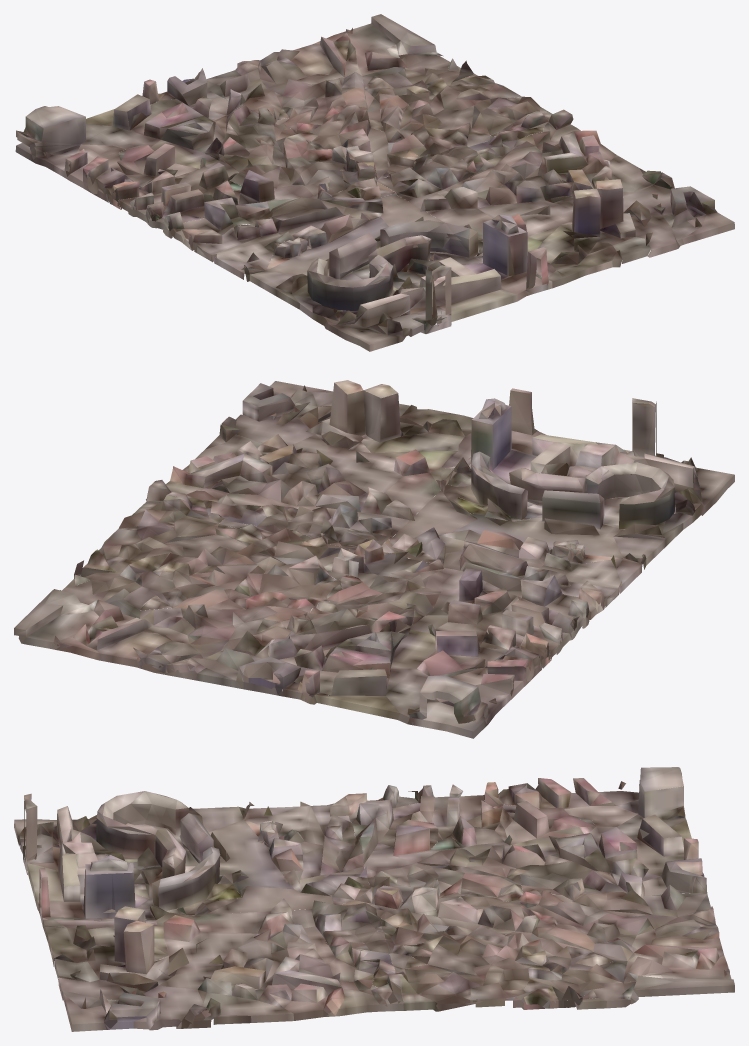
3 renders of one model, top to bottom at view 1: azimuth 30°, elevation 25°; view 2: azimuth 150°, elevation 25°; view 3: azimuth 270°, elevation 25°, orthographic. The views are drawn at different scales.
Visible parts, largest first — view 1: Mesh_0; view 2: Mesh_0; view 3: Mesh_0.
Boxes of the visible parts, box(x1,y1,x2,y2) form: Mesh_0: box(15, 14, 734, 351); Mesh_0: box(14, 380, 734, 738); Mesh_0: box(14, 767, 734, 1031).
Size of the model in its own units: 535 by 77 by 659.
Materials: 2 (2 with a texture image).
